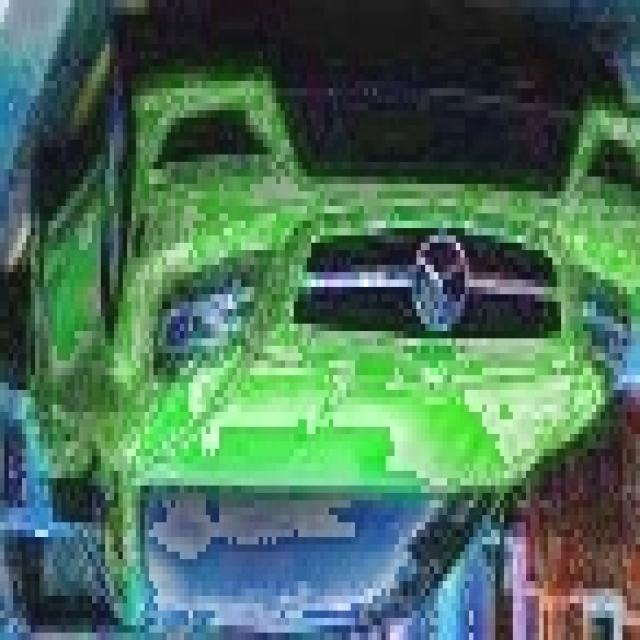green: (26, 22, 640, 640)
